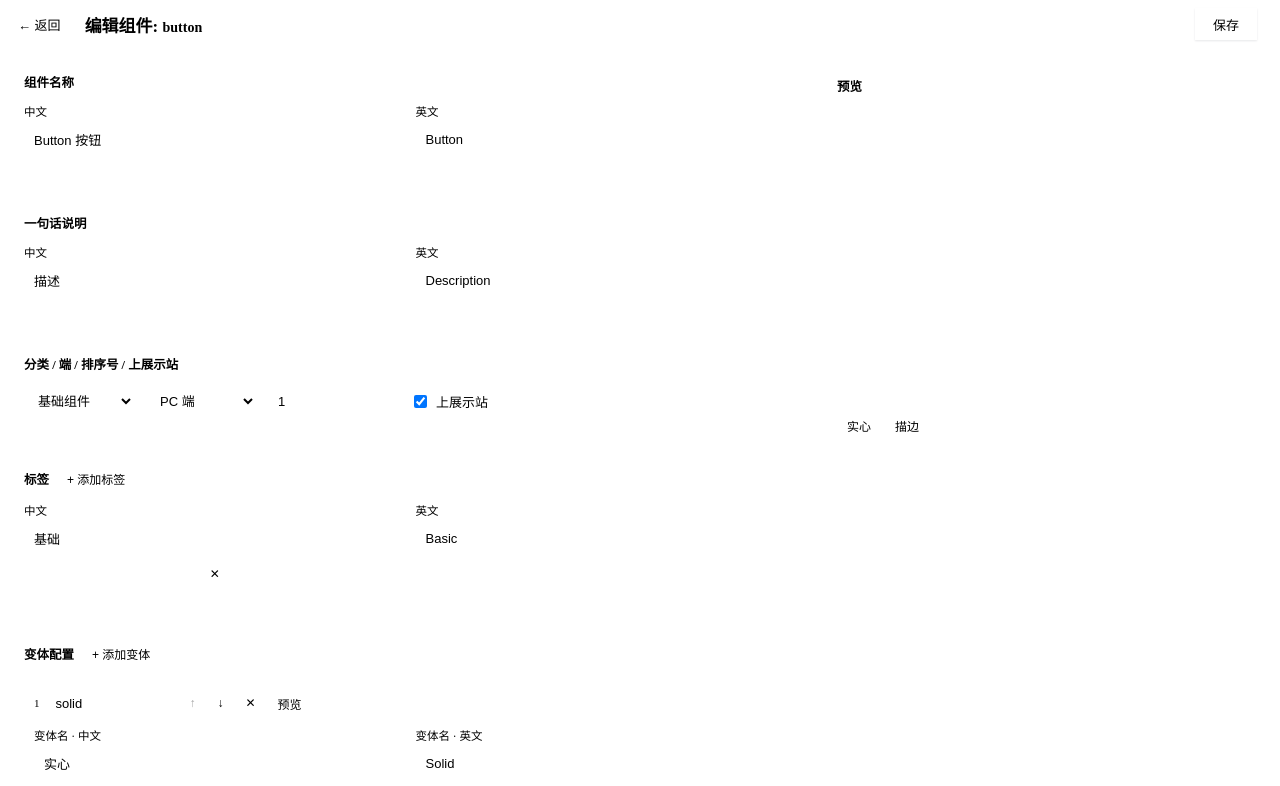
Test: ComponentEdit › shows validation errors instead of saving when metadata is incomplete
Click the button with class "edit__save" at {"x": 1226, "y": 24}, box [1195,8,1257,40]
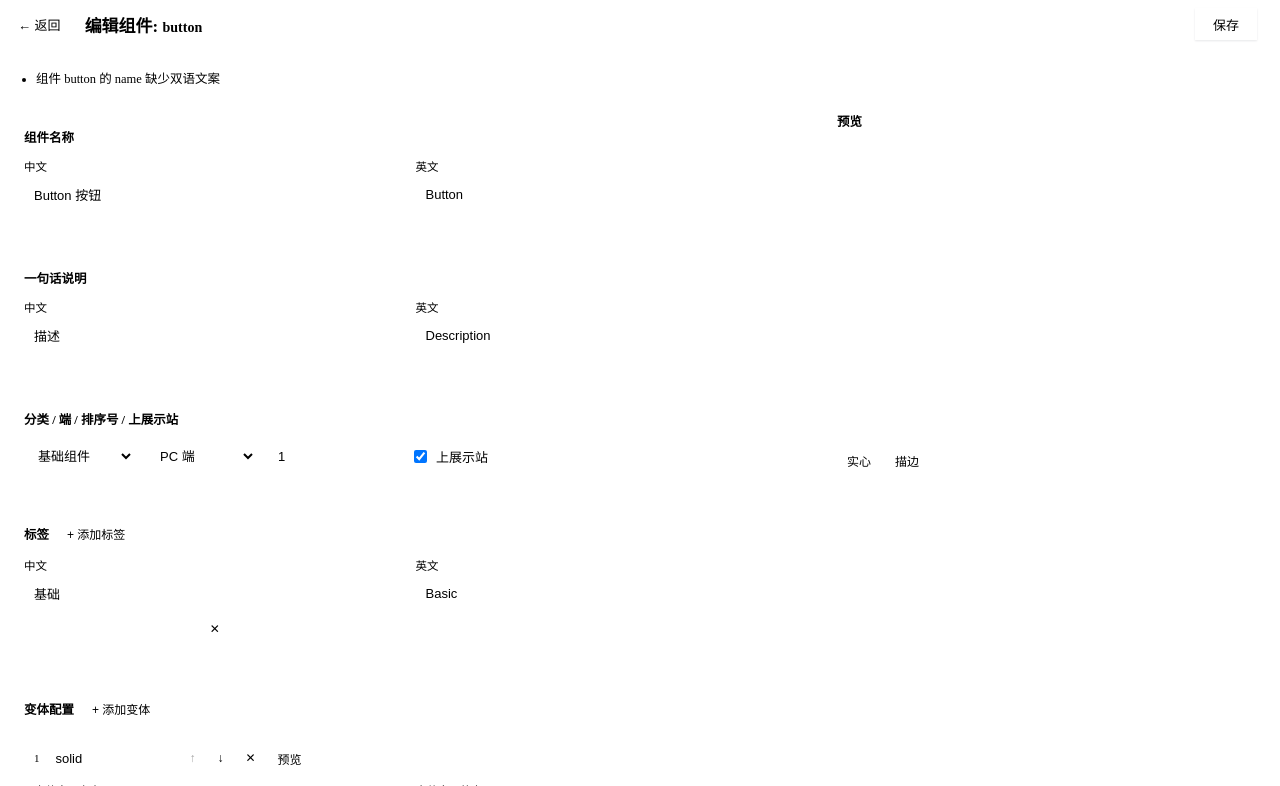
Check: the text "name 缺少双语文案" is shown, box [36,72,220,86]
